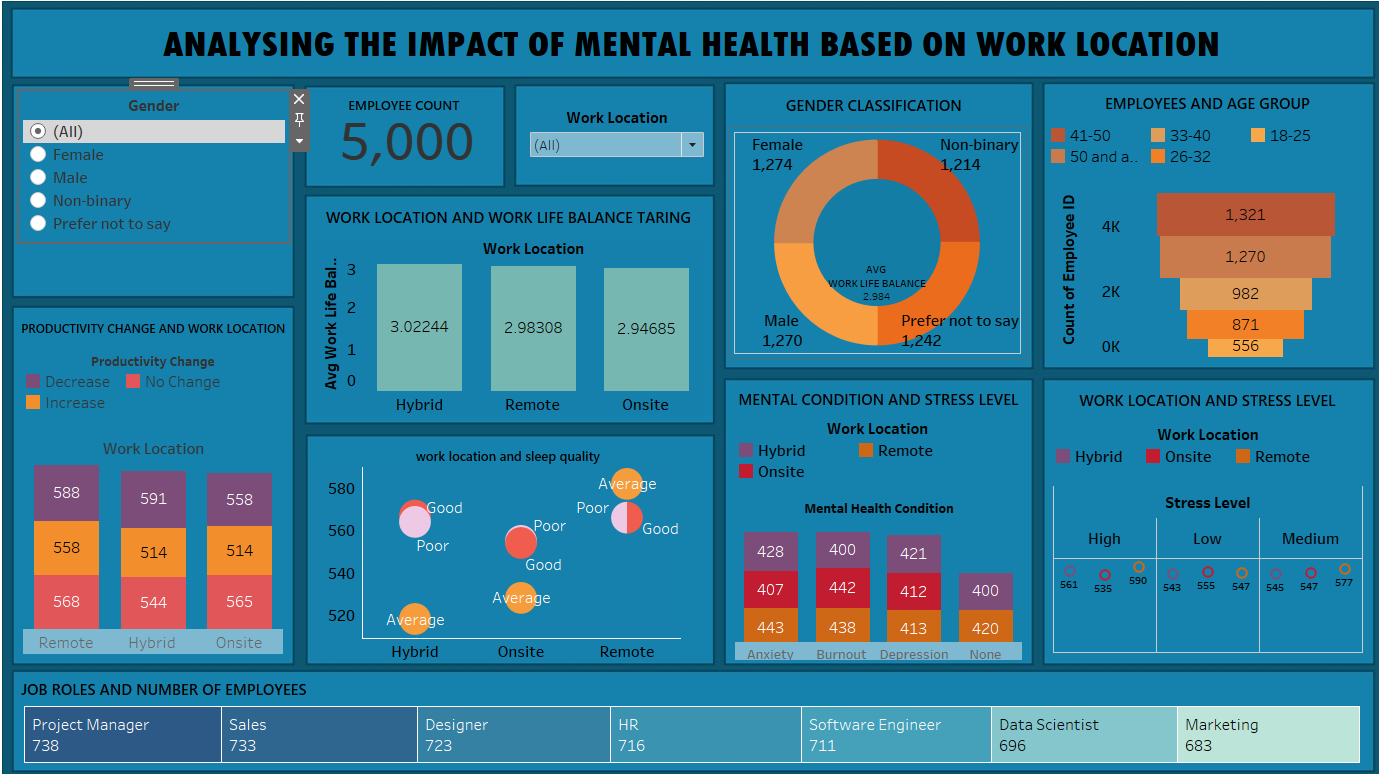

The page's visual inventory and layout, read from the dashboard file:
{"tool":"powerbi","page":{"name":"Page 3","canvas":[1280,720],"ordinal":1},"visuals":[{"type":"textbox","box":[10.9,8.4,1260.7,53.1],"z":0},{"type":"slicer","fields":{"Values":["Impact_of_Remote_Work_on_Mental_Health.Work_Location"]},"box":[11.2,70,601.2,96.2],"z":1000},{"type":"card","fields":{"Values":["Count(Impact_of_Remote_Work_on_Mental_Health.Employee_ID)"]},"box":[621.2,70,237.5,96.2],"z":2000},{"type":"donutChart","title":"GENDER CLASSIFICATION","fields":{"Category":["Impact_of_Remote_Work_on_Mental_Health.Gender"],"Y":["CountNonNull(Impact_of_Remote_Work_on_Mental_Health.Employee_ID)"]},"box":[10.9,179.8,304,214.7],"z":3000},{"type":"clusteredColumnChart","title":"EMPLOYEES AND WORK LOCATION","fields":{"Category":["Impact_of_Remote_Work_on_Mental_Health.Work_Location"],"Y":["CountNonNull(Impact_of_Remote_Work_on_Mental_Health.Employee_ID)"]},"box":[319.7,179.8,292,191.8],"z":4000},{"type":"funnel","title":"AVG Of WORK LIFE BALANCE RATING BY WORK LOCATION","fields":{"Category":["Impact_of_Remote_Work_on_Mental_Health.Work_Location"],"Y":["Avg(Impact_of_Remote_Work_on_Mental_Health.Work_Life_Balance_Rating)"]},"box":[621.3,179.8,288.3,191.8],"z":5000},{"type":"hundredPercentStackedBarChart","title":"COUNT OF EMP BY MENTAL HEALTH CONDITION AND WORK LOCATION","fields":{"Category":["Impact_of_Remote_Work_on_Mental_Health.Mental_Health_Condition"],"Series":["Impact_of_Remote_Work_on_Mental_Health.Work_Location"],"Y":["CountNonNull(Impact_of_Remote_Work_on_Mental_Health.Employee_ID)"]},"box":[884.3,378.8,384.9,231.6],"z":6000},{"type":"treemap","title":"EMPLOYEES AND JOB ROLE","fields":{"Group":["Impact_of_Remote_Work_on_Mental_Health.Job_Role"],"Values":["CountNonNull(Impact_of_Remote_Work_on_Mental_Health.Employee_ID)"]},"box":[9.7,621.3,1259.5,90.5],"z":7000},{"type":"textbox","box":[652.7,71.2,172.5,26.5],"z":8000},{"type":"ribbonChart","title":"COUNT OF STRESS LEVEL BY WORK LOCATION","fields":{"Category":["Impact_of_Remote_Work_on_Mental_Health.Work_Location"],"Series":["Impact_of_Remote_Work_on_Mental_Health.Stress_Level"],"Y":["CountNonNull(Impact_of_Remote_Work_on_Mental_Health.Stress_Level)"]},"box":[10.9,398.1,304,212.3],"z":9000},{"type":"clusteredColumnChart","title":"COUNT OF EMPLOYEES BY AGE GROUP AND STRESS LEVEL","fields":{"Category":["Impact_of_Remote_Work_on_Mental_Health.age group"],"Y":["CountNonNull(Impact_of_Remote_Work_on_Mental_Health.Employee_ID)"],"Series":["Impact_of_Remote_Work_on_Mental_Health.Stress_Level"]},"box":[319.7,378.8,553.8,231.6],"z":10000},{"type":"gauge","title":"AVG WORK LIFE BALANCE","fields":{"Y":["Avg(Impact_of_Remote_Work_on_Mental_Health.Work_Life_Balance_Rating)"],"MinValue":["Min(Impact_of_Remote_Work_on_Mental_Health.Work_Life_Balance_Rating)1"],"MaxValue":["Max(Impact_of_Remote_Work_on_Mental_Health.Work_Life_Balance_Rating)2"]},"box":[868.8,70,215,96.2],"z":11000},{"type":"slicer","fields":{"Values":["Impact_of_Remote_Work_on_Mental_Health.Industry"]},"box":[1091.2,71.2,178.8,96.2],"z":12000},{"type":"columnChart","title":"COUNT OF EMPLOYEES BY WORK LOCATION AND PRODUCTIVITY CHANGE","fields":{"Category":["Impact_of_Remote_Work_on_Mental_Health.Work_Location"],"Y":["CountNonNull(Impact_of_Remote_Work_on_Mental_Health.Employee_ID)"],"Series":["Impact_of_Remote_Work_on_Mental_Health.Productivity_Change"]},"box":[919.3,179.8,349.9,191.8],"z":13000}]}

Visuals, with their boxes in screenshot pixels (x1, y1, x2, y2), scaled from the page's 1280x720 canvas onto the 1379x774 screenshot:
textbox: 12:9:1370:66
slicer - Impact_of_Remote_Work_on_Mental_Health.Work_Location: 12:75:660:179
card - Count(Impact_of_Remote_Work_on_Mental_Health.Employee_ID): 669:75:925:179
"GENDER CLASSIFICATION" donutChart: 12:193:339:424
"EMPLOYEES AND WORK LOCATION" clusteredColumnChart: 344:193:659:399
"AVG Of WORK LIFE BALANCE RATING BY WORK LOCATION" funnel: 669:193:980:399
"COUNT OF EMP BY MENTAL HEALTH CONDITION AND WORK LOCATION" hundredPercentStackedBarChart: 953:407:1367:656
"EMPLOYEES AND JOB ROLE" treemap: 10:668:1367:765
textbox: 703:77:889:105
"COUNT OF STRESS LEVEL BY WORK LOCATION" ribbonChart: 12:428:339:656
"COUNT OF EMPLOYEES BY AGE GROUP AND STRESS LEVEL" clusteredColumnChart: 344:407:941:656
"AVG WORK LIFE BALANCE" gauge: 936:75:1168:179
slicer - Impact_of_Remote_Work_on_Mental_Health.Industry: 1176:77:1368:180
"COUNT OF EMPLOYEES BY WORK LOCATION AND PRODUCTIVITY CHANGE" columnChart: 990:193:1367:399
